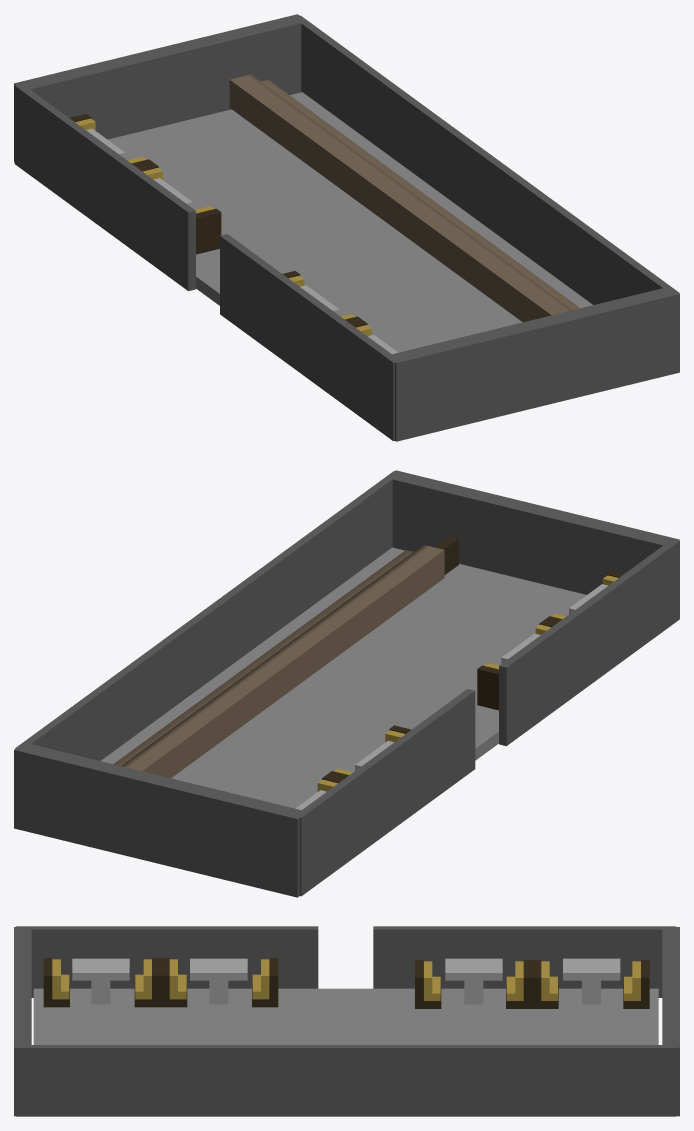
The model's file is Fbx_interior.fbx.
3 renders of one model, top to bottom at view 1: azimuth 30°, elevation 25°; view 2: azimuth 150°, elevation 25°; view 3: azimuth 270°, elevation 25°, orthographic. The views are drawn at different scales.
Parts seen in each view (by area): view 1: Floor, Left1, Right, Right1, Counter, Left, ChairBottom; view 2: Floor, Left1, Left, Right1, Right, Counter, ChairBottom; view 3: Right1, Floor, Left1, ChairBottom (×8), ChairCushion (×8), Left, Right, Table, Table1, Table2, Table3.
Part boxes in pixels (<box>): Floor: <box>108,92,593,352</box>; Left1: <box>14,83,400,441</box>; Right: <box>386,286,679,441</box>; Right1: <box>294,15,679,304</box>; Counter: <box>229,74,579,322</box>; Left: <box>14,14,306,161</box>; ChairBottom: <box>196,208,221,254</box>; Floor: <box>101,547,586,808</box>; Left1: <box>295,539,679,896</box>; Left: <box>14,744,307,897</box>; Right1: <box>15,471,399,760</box>; Right: <box>386,470,679,594</box>; Counter: <box>113,545,444,778</box>; ChairBottom: <box>477,665,498,710</box>; Right1: <box>16,1045,675,1116</box>; Floor: <box>33,988,658,1044</box>; Left1: <box>16,926,675,997</box>; ChairBottom (×8): <box>43,958,649,1008</box>; ChairCushion (×8): <box>52,959,640,1000</box>; Left: <box>662,927,679,1116</box>; Right: <box>14,927,31,1116</box>; Table: <box>72,958,129,1004</box>; Table1: <box>190,958,247,1004</box>; Table2: <box>445,958,502,1004</box>; Table3: <box>563,958,620,1004</box>.
Size of the model in its own units: 1902 by 503 by 4400.
